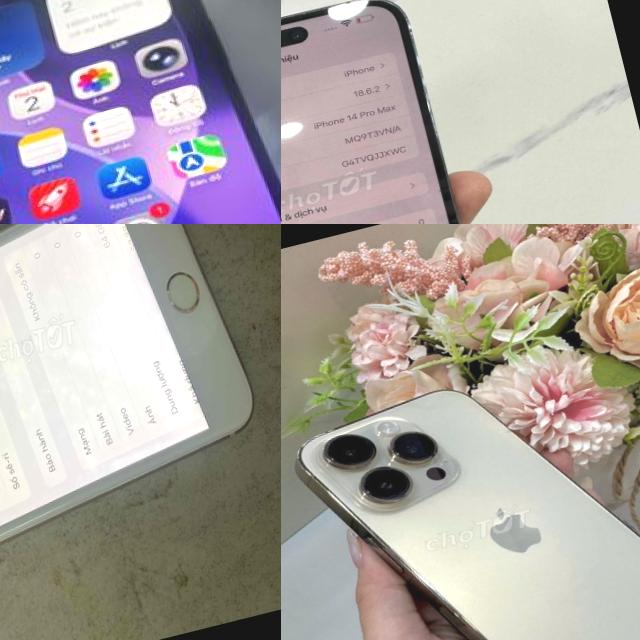gen_14: (281, 331, 640, 640), (281, 0, 518, 224)
gen_15: (0, 0, 281, 224)
gen_7_8: (0, 224, 281, 624)
scratch: (154, 274, 199, 328)
